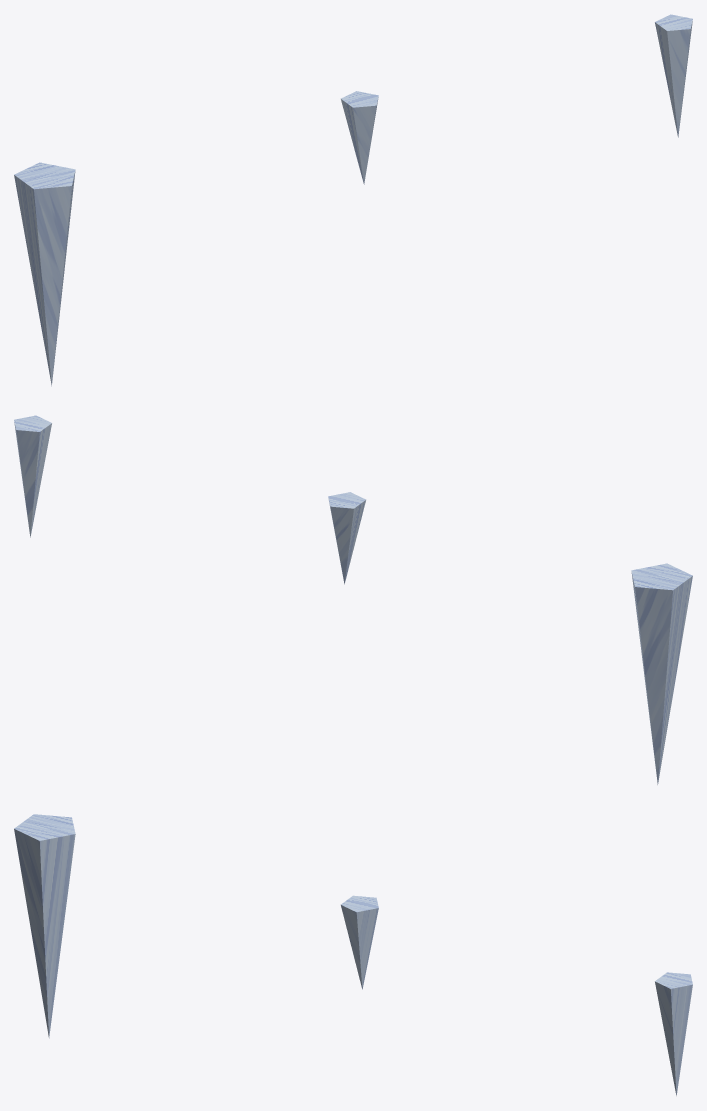
File: icicle_cluster_sparse.glb
3 renders of one model, top to bottom at view 1: azimuth 30°, elevation 25°; view 2: azimuth 150°, elevation 25°; view 3: azimuth 330°, elevation 25°, orthographic.
Parts seen in each view (by area): view 1: winter_icicle_cluster_sparse; view 2: winter_icicle_cluster_sparse; view 3: winter_icicle_cluster_sparse.
Boxes of the visible parts, left/top/right/bottom form: winter_icicle_cluster_sparse: left=14, top=14, right=692, bottom=386; winter_icicle_cluster_sparse: left=14, top=415, right=692, bottom=784; winter_icicle_cluster_sparse: left=14, top=814, right=692, bottom=1095.
Bounding box in the file's own units: 1.2 × 0.36 × 0.1.
Materials: 1 (1 with a texture image).
